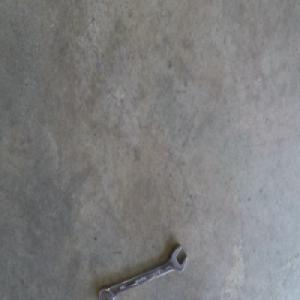Wrench: (98, 245, 186, 298)
